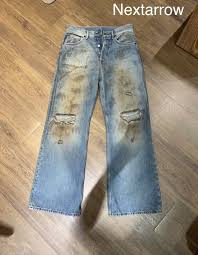earth: (62, 73, 84, 113), (119, 75, 131, 106), (52, 124, 75, 138), (120, 121, 138, 134)
